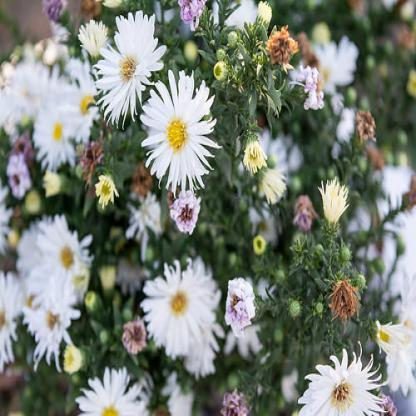ASTER: (2, 6, 408, 416)
